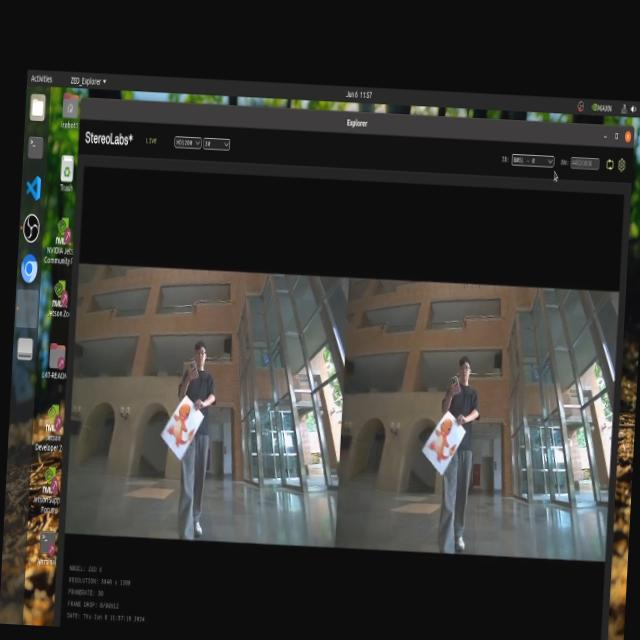red: (163, 397, 200, 452), (422, 412, 461, 464)
